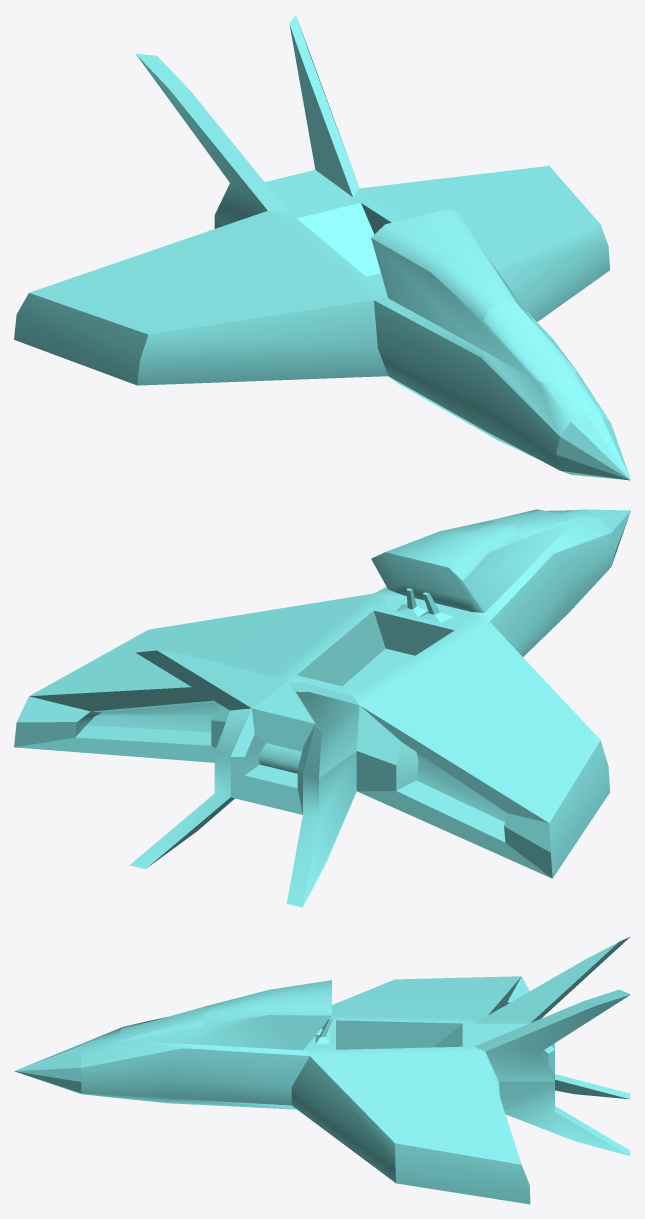
Rendered from parrotship.fbx.
3 views of the same model, one above another, from view 1: azimuth 30°, elevation 25°; view 2: azimuth 150°, elevation 25°; view 3: azimuth 270°, elevation 25° (orthographic). The views are drawn at different scales.
Parts seen in each view (by area): view 1: parrotship (×2); view 2: parrotship (×3); view 3: parrotship (×2).
Boxes of the visible parts, box(x1,y1,x2,y2) form: parrotship (×2): box(14, 15, 630, 480); parrotship (×3): box(14, 509, 630, 907); parrotship (×2): box(14, 936, 630, 1204).
Size of the model in its own units: 387 by 147 by 517.
